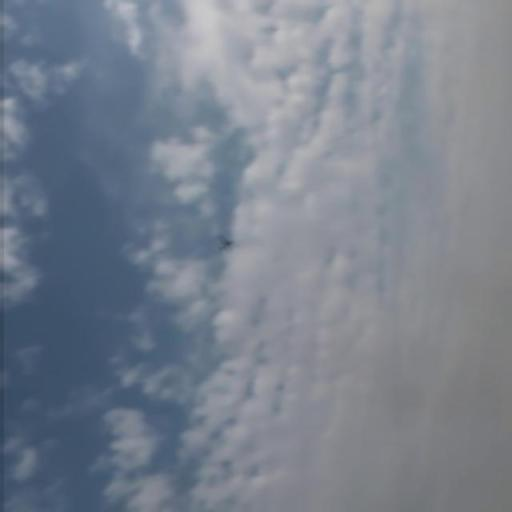uav: (212, 236, 238, 252)
